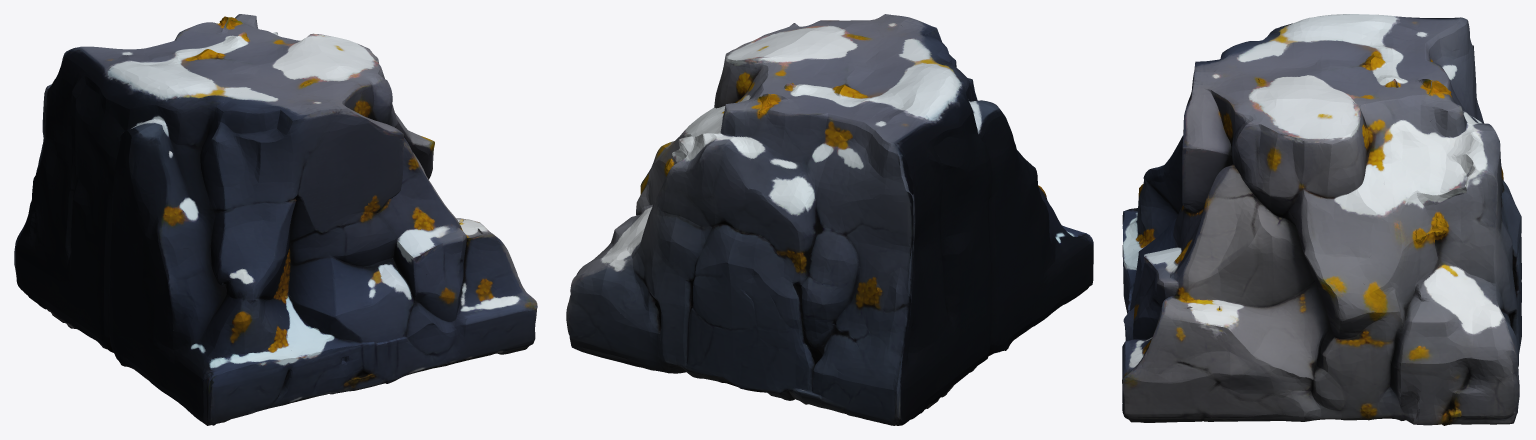
The model's file is roca.glb.
3 renders of one model, left to right at view 1: azimuth 30°, elevation 25°; view 2: azimuth 150°, elevation 25°; view 3: azimuth 270°, elevation 25°, orthographic. The views are drawn at different scales.
Visible parts, largest first — view 1: world; view 2: world; view 3: world.
Boxes of the visible parts, bbox=[...] form: world: bbox=[14, 14, 537, 425]; world: bbox=[566, 14, 1093, 425]; world: bbox=[1122, 14, 1521, 425].
Size of the model in its own units: 0.9916 by 0.7629 by 1.
Materials: 1 (1 with a texture image).
